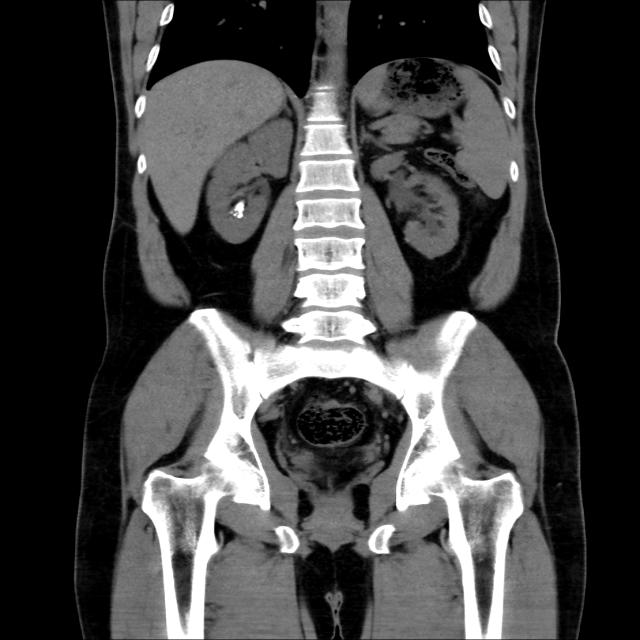kidneystone: (231, 200, 245, 219)
